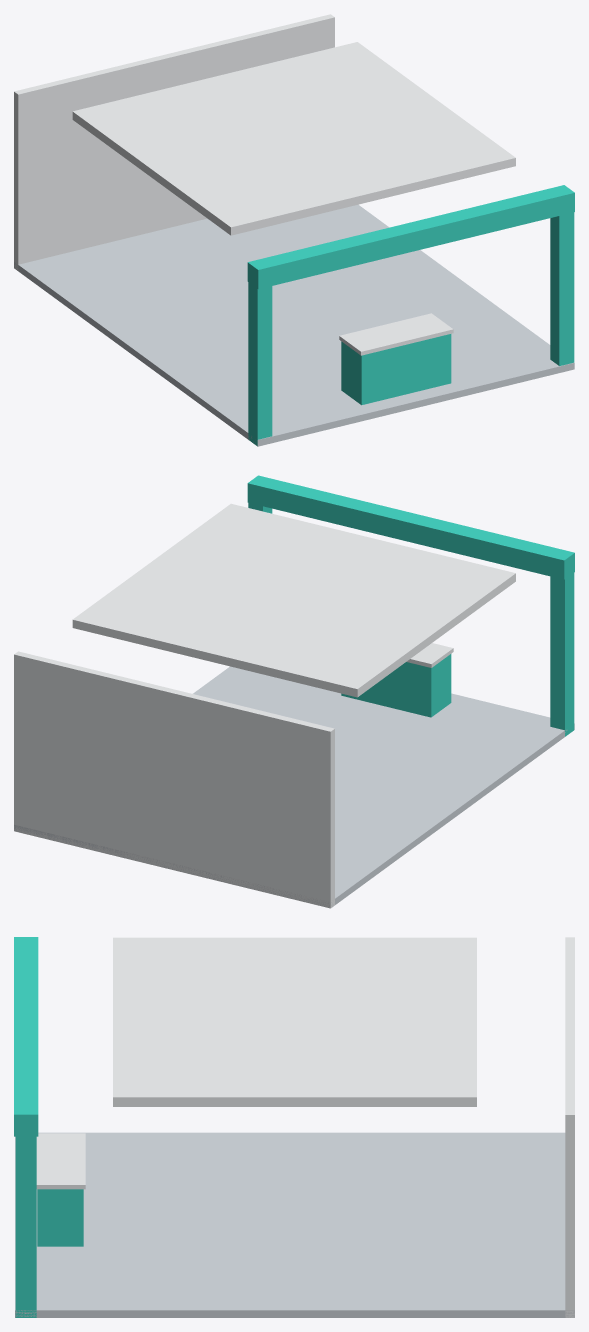
The picture shows the model from 3 angles, top to bottom: view 1: azimuth 30°, elevation 25°; view 2: azimuth 150°, elevation 25°; view 3: azimuth 270°, elevation 25°; orthographic projection. The views are drawn at different scales.
Visible parts, largest first — view 1: Exhibition Booth Concept; view 2: Exhibition Booth Concept; view 3: Exhibition Booth Concept.
Boxes of the visible parts, box(x1,y1,x2,y2) form: Exhibition Booth Concept: box(14, 14, 574, 446); Exhibition Booth Concept: box(14, 475, 574, 908); Exhibition Booth Concept: box(14, 937, 574, 1317).
Size of the model in its own units: 6 by 3.34 by 8.01.
